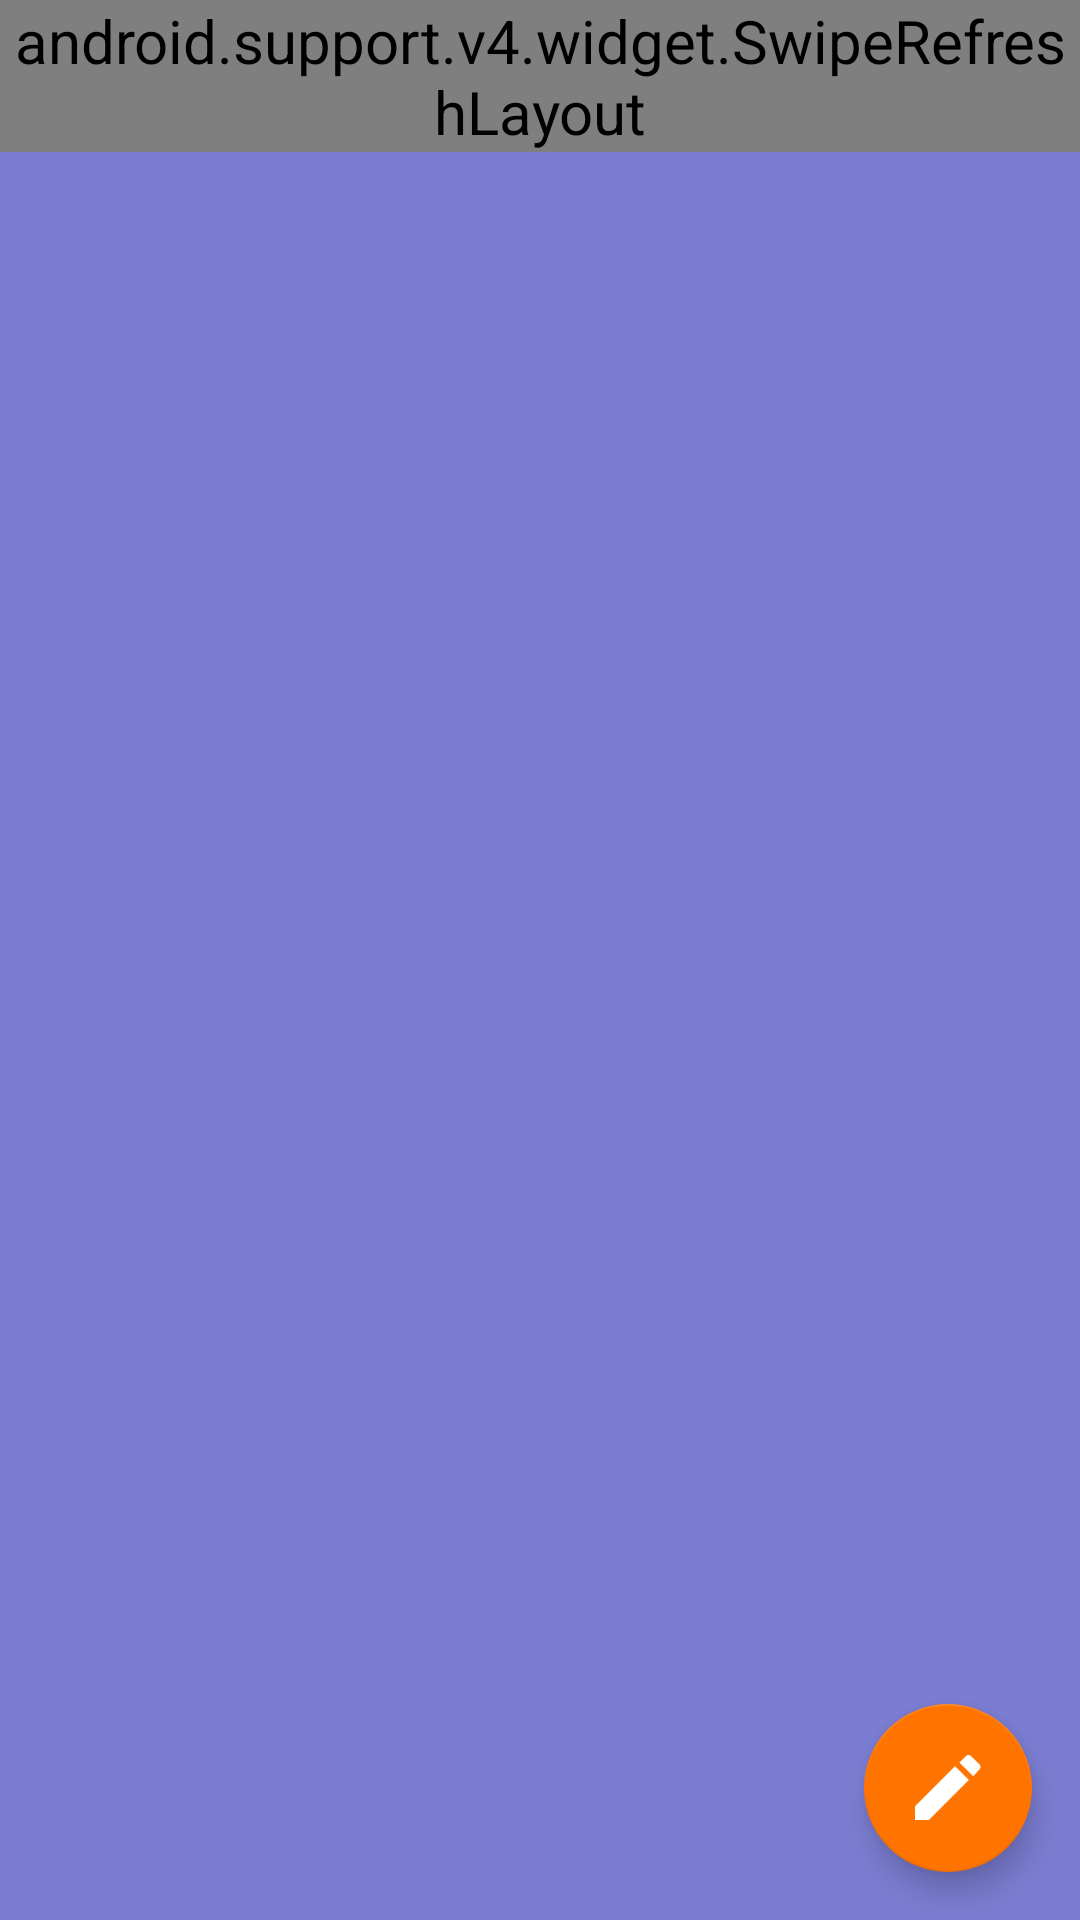

Named icons in this screenshot (1080*1920) and their centers, point (x, y):
pencil: point (948, 1788)
